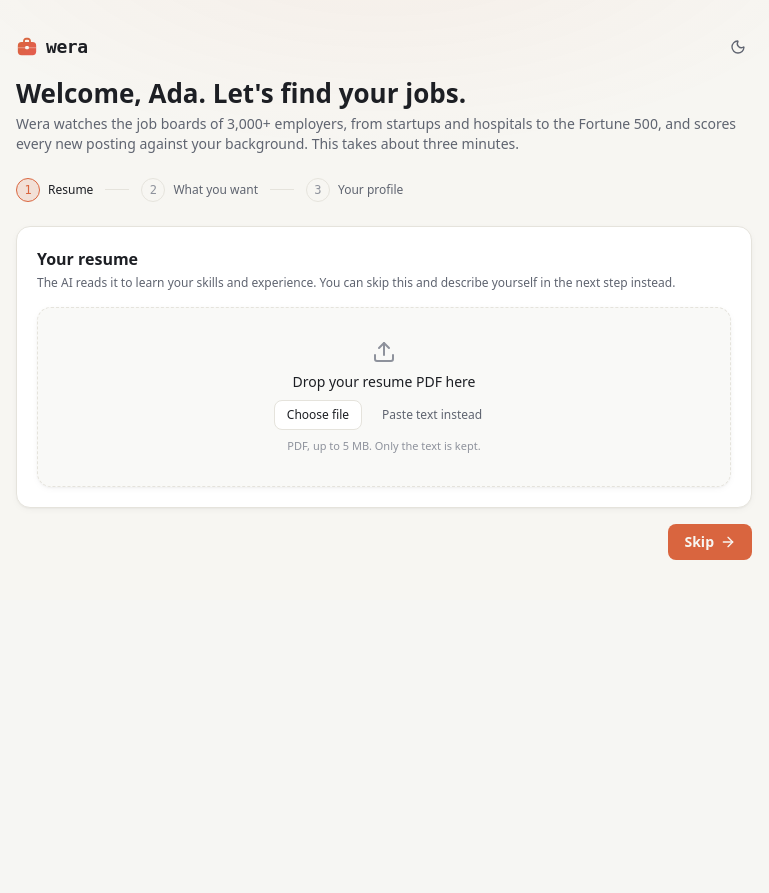
it: WelcomePage › walks the setup steps
This screenshot has width=769, height=893.
Click the button "Skip" at (710, 542), box x1=668 y1=524 x2=752 y2=560
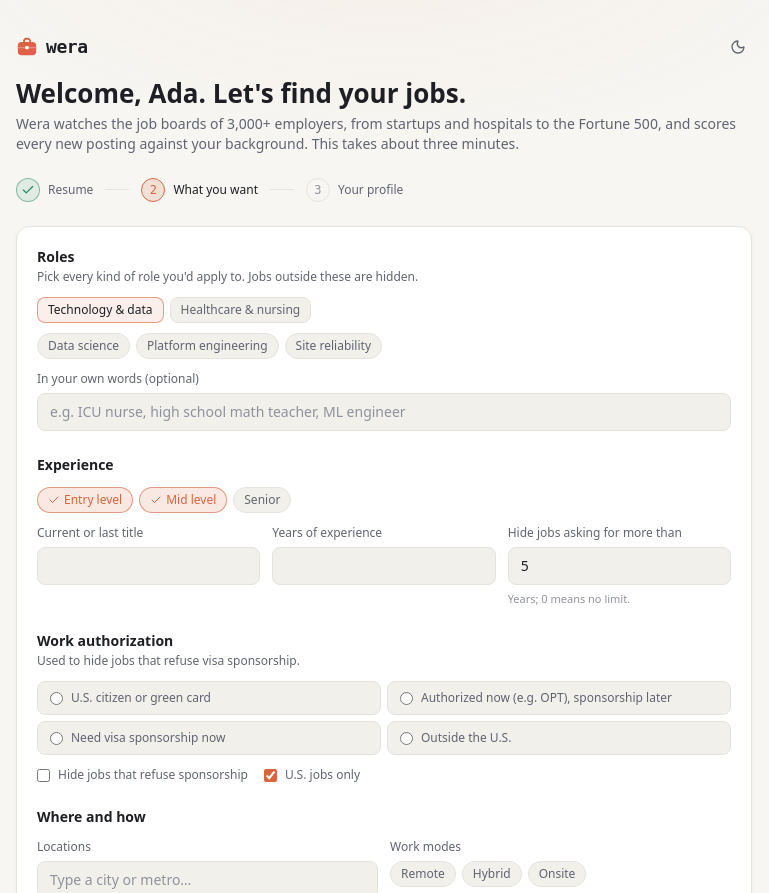
Note: Picking one enables Continue.
Click the button "Site reliability" at (333, 346), box x1=285 y1=332 x2=382 y2=358
(page scrolled)
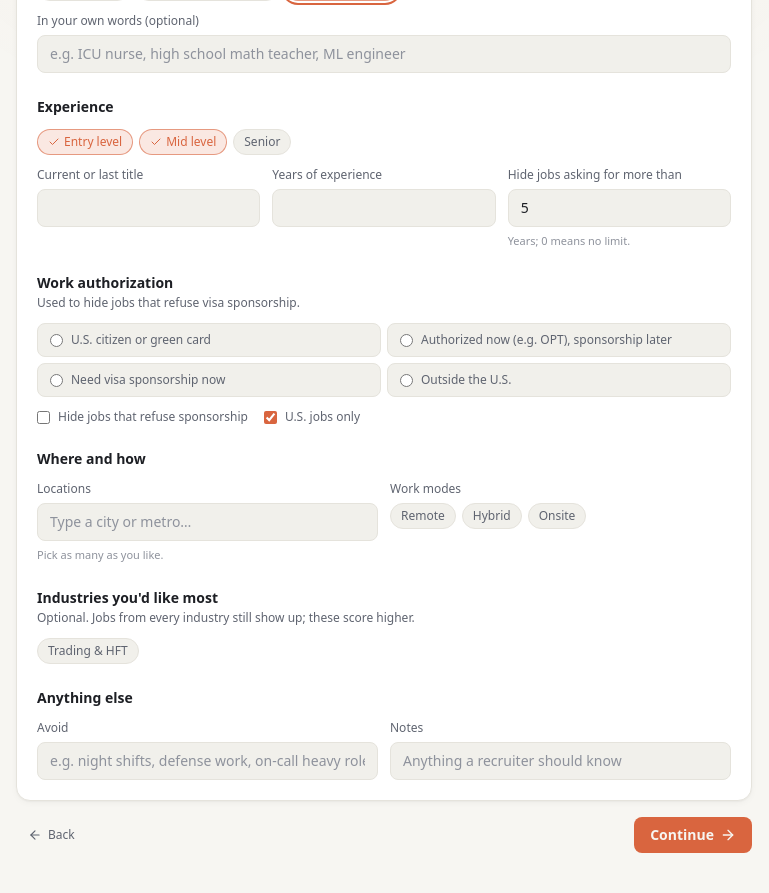
expect the button "Continue" is enabled: met, box x1=634 y1=816 x2=752 y2=852
